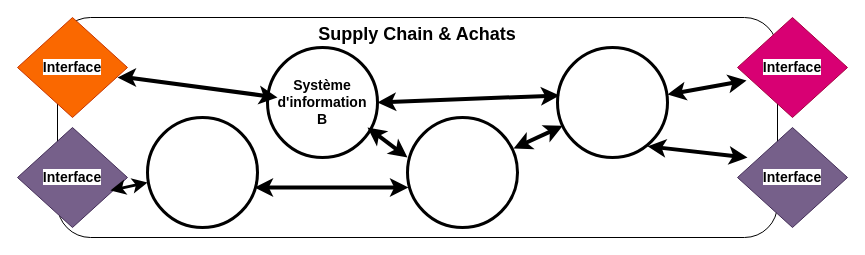
Some shapes in this 865 by 255 pixel diagram are drawn without their labels. The box of each missing label's shape, as (x1, y1, x2, y2) in pixels:
Système d'information A: (146, 116, 258, 228)
Système d'information C: (406, 116, 518, 228)
Système d'information D: (556, 46, 668, 158)
